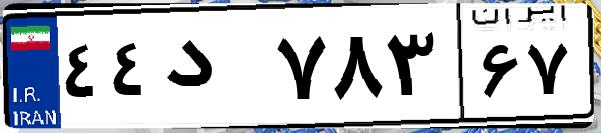3: (385, 28, 445, 110)
4: (57, 26, 110, 100), (110, 28, 158, 98)
6: (475, 38, 525, 113)
7: (270, 28, 330, 110), (525, 38, 570, 115)
8: (330, 28, 385, 110)
د: (158, 20, 270, 120)
